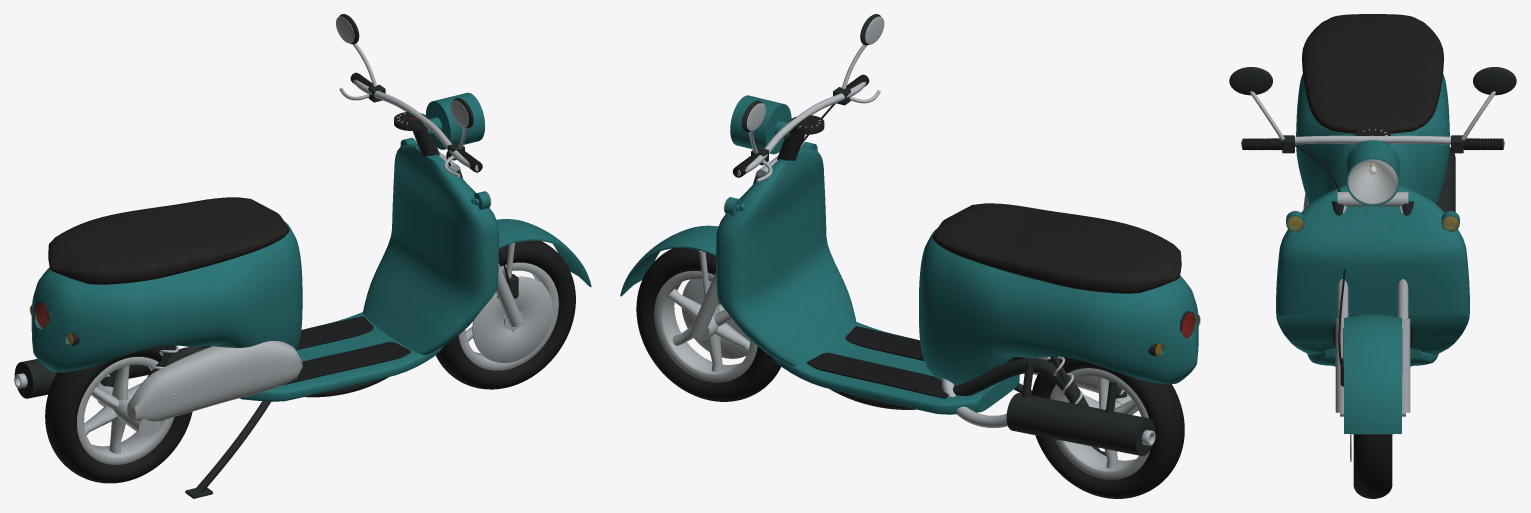
3 views of the same model, side by side, from view 1: azimuth 30°, elevation 25°; view 2: azimuth 150°, elevation 25°; view 3: azimuth 270°, elevation 25° (orthographic). The views are drawn at different scales.
Visible parts, largest first — view 1: Scooter lofted rear body with real wheel opening, Scooter shaped leg shield with front wheel clearance, Scooter shaped two-person saddle, Scooter cast automatic transmission case, Scooter rear wheel rounded tyre carcass, Scooter front wheel rounded tyre carcass, Scooter front wheel finite brake rotor, Scooter closed step-through footboard, Scooter rear wheel turned rim and bead seats, Scooter seated footboard grip -100, Scooter headlamp closed optical housing, Scooter front curved mudguard (+7 smaller); view 2: Scooter lofted rear body with real wheel opening, Scooter shaped leg shield with front wheel clearance, Scooter shaped two-person saddle, Scooter rear wheel rounded tyre carcass, Scooter front wheel rounded tyre carcass, Scooter closed step-through footboard, Scooter muffler closed body, Scooter front wheel turned rim and bead seats, Scooter rear wheel turned rim and bead seats, Scooter seated footboard grip 100, Scooter underbone frame rail 95, Scooter headlamp closed optical housing (+6 smaller); view 3: Scooter shaped leg shield with front wheel clearance, Scooter shaped two-person saddle, Scooter lofted rear body with real wheel opening, Scooter front curved mudguard, Scooter front wheel rounded tyre carcass, Scooter headlamp finite curved optic, Scooter headlamp seated parabolic reflector, Scooter headlamp closed optical housing, Scooter curved handlebar, Scooter mirror closed housing 1, Scooter mirror closed housing -1, Scooter front lower fork casting 1 (+11 smaller).
Boxes of the visible parts, x1,y1,x2,y2 form: Scooter lofted rear body with real wheel opening: [31, 221, 302, 372]; Scooter shaped leg shield with front wheel clearance: [363, 143, 498, 354]; Scooter shaped two-person saddle: [48, 197, 289, 284]; Scooter cast automatic transmission case: [127, 341, 302, 421]; Scooter rear wheel rounded tyre carcass: [45, 345, 192, 483]; Scooter front wheel rounded tyre carcass: [435, 240, 575, 389]; Scooter front wheel finite brake rotor: [472, 276, 553, 362]; Scooter closed step-through footboard: [240, 312, 443, 401]; Scooter rear wheel turned rim and bead seats: [77, 356, 174, 464]; Scooter seated footboard grip -100: [282, 342, 410, 385]; Scooter headlamp closed optical housing: [425, 92, 485, 149]; Scooter front curved mudguard: [496, 219, 591, 287]; Scooter lofted rear body with real wheel opening: [919, 228, 1198, 385]; Scooter shaped leg shield with front wheel clearance: [716, 148, 856, 366]; Scooter shaped two-person saddle: [932, 203, 1181, 293]; Scooter rear wheel rounded tyre carcass: [1031, 357, 1184, 498]; Scooter front wheel rounded tyre carcass: [636, 248, 781, 401]; Scooter closed step-through footboard: [773, 322, 1019, 414]; Scooter muffler closed body: [1006, 393, 1154, 455]; Scooter front wheel turned rim and bead seats: [654, 271, 757, 382]; Scooter rear wheel turned rim and bead seats: [1049, 368, 1149, 479]; Scooter seated footboard grip 100: [806, 352, 955, 398]; Scooter underbone frame rail 95: [753, 174, 1088, 409]; Scooter headlamp closed optical housing: [730, 95, 791, 154]; Scooter shaped leg shield with front wheel clearance: [1276, 185, 1469, 354]; Scooter shaped two-person saddle: [1302, 14, 1443, 133]; Scooter lofted rear body with real wheel opening: [1296, 73, 1449, 204]; Scooter front curved mudguard: [1344, 314, 1401, 434]; Scooter front wheel rounded tyre carcass: [1353, 434, 1392, 498]; Scooter headlamp finite curved optic: [1347, 159, 1398, 205]; Scooter headlamp seated parabolic reflector: [1348, 159, 1397, 203]; Scooter headlamp closed optical housing: [1346, 140, 1399, 205]; Scooter curved handlebar: [1241, 135, 1504, 147]; Scooter mirror closed housing 1: [1473, 67, 1516, 95]; Scooter mirror closed housing -1: [1229, 67, 1272, 95]; Scooter front lower fork casting 1: [1402, 318, 1410, 412].
Bounding box in the file's own units: 1.9 × 1.17 × 0.814.
Materials: 13 (13 with a texture image).
